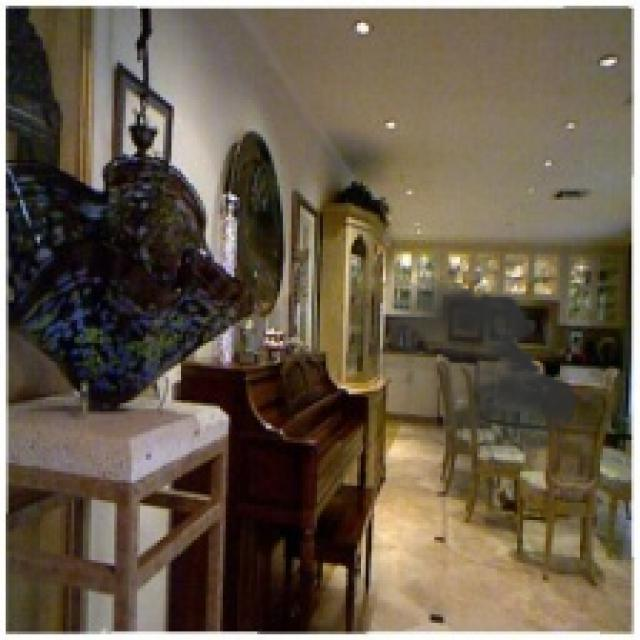Smoke: (334, 274, 589, 500)
